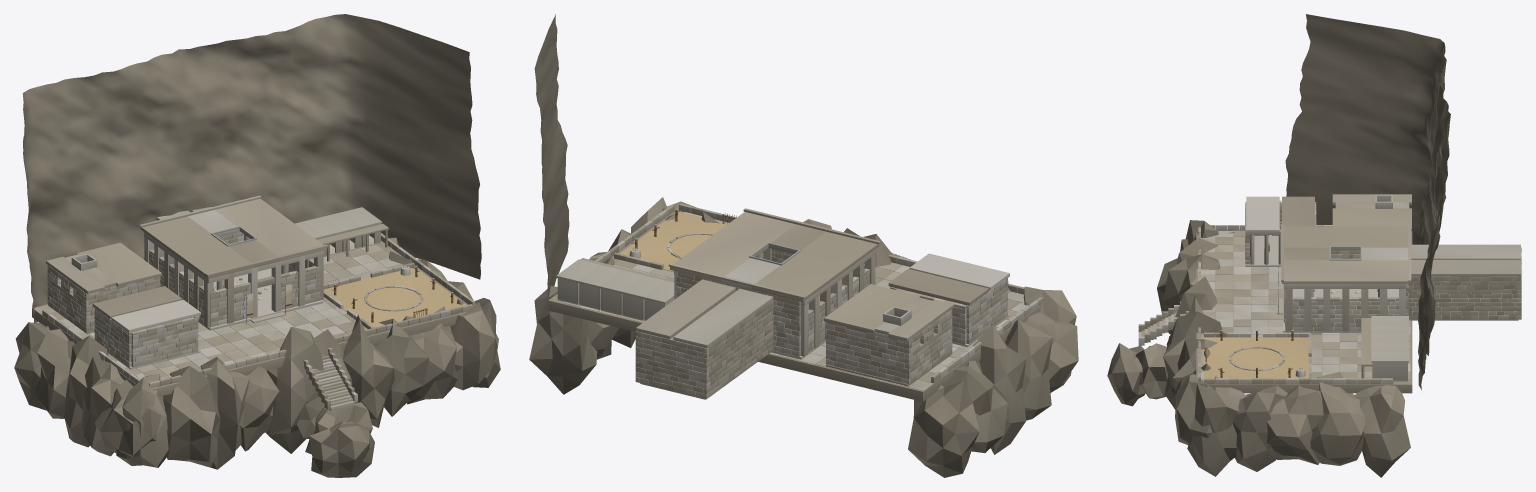
Rendered from site_warden_sanctum.glb.
3 renders of one model, left to right at view 1: azimuth 30°, elevation 25°; view 2: azimuth 150°, elevation 25°; view 3: azimuth 270°, elevation 25°, orthographic. The views are drawn at different scales.
Parts seen in each view (by area): view 1: terrain_cliff, terrain_ledge, hall_structure, terrace_platform, archive_structure, forge_structure, yard_floor, yard_structure, cells_walkway, cell_05_structure, cell_04_structure, cell_03_structure; view 2: terrain_ledge, hall_structure, masters_structure, forge_structure, terrace_platform, archive_structure, terrain_cliff, yard_floor, cell_02_structure, cell_05_structure, cell_03_structure, cell_04_structure (+2 smaller); view 3: terrain_cliff, terrain_ledge, hall_structure, terrace_platform, masters_structure, yard_floor, archive_structure, forge_structure, yard_structure, cell_05_structure, cells_walkway.
Boxes of the visible parts, x1,y1,x2,y2 form: terrain_cliff: (22,14,481,322); terrain_ledge: (14,237,500,477); hall_structure: (139,195,328,330); terrace_platform: (32,233,475,410); archive_structure: (93,286,200,369); forge_structure: (46,242,161,333); yard_floor: (323,267,466,327); yard_structure: (323,262,423,329); cells_walkway: (317,223,388,261); cell_05_structure: (343,207,382,247); cell_04_structure: (324,212,362,252); cell_03_structure: (304,216,343,256); terrain_ledge: (529,197,1078,477); hall_structure: (668,208,880,359); masters_structure: (635,279,773,399); forge_structure: (824,284,954,386); terrace_platform: (548,204,1043,401); archive_structure: (888,253,1009,346); terrain_cliff: (534,14,569,299); yard_floor: (620,211,727,271); cell_02_structure: (621,275,664,320); cell_05_structure: (556,259,599,304); cell_03_structure: (599,270,643,315); cell_04_structure: (578,264,621,310); terrain_cliff: (1285,14,1450,390); terrain_ledge: (1107,220,1410,477); hall_structure: (1277,224,1411,333); terrace_platform: (1138,225,1412,393); masters_structure: (1408,244,1521,320); yard_floor: (1203,336,1310,381); archive_structure: (1245,196,1316,266); forge_structure: (1332,194,1411,256); yard_structure: (1204,332,1311,381); cell_05_structure: (1371,352,1408,381); cells_walkway: (1361,318,1372,378).
Size of the model in its own units: 80 by 54.32 by 70.03.
